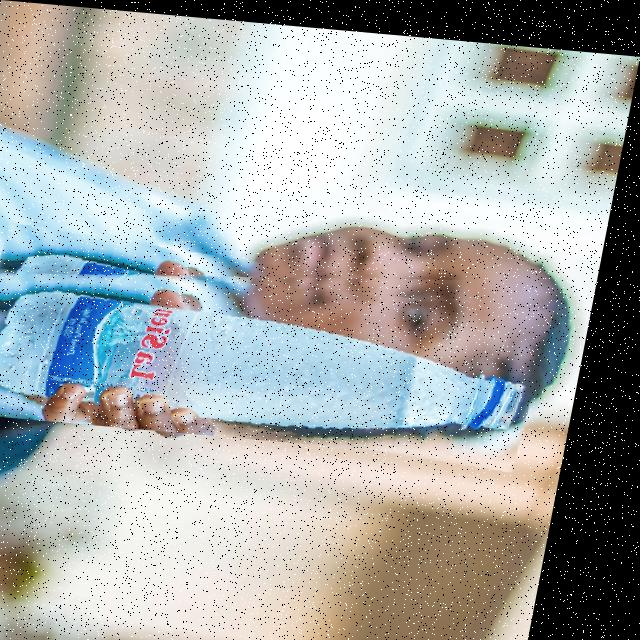litter: (0, 230, 565, 452)
